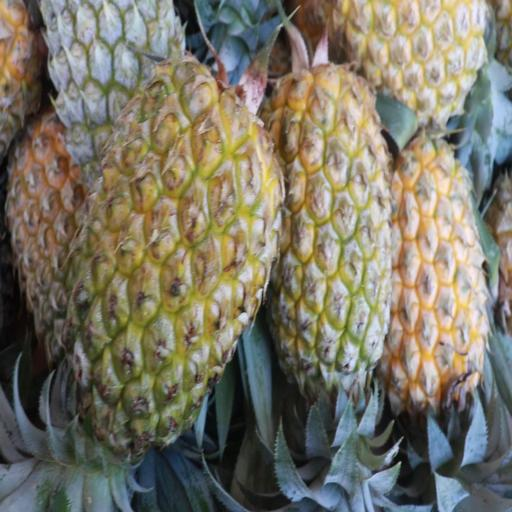Pineapple - v8 v1: (71, 76, 278, 437), (266, 79, 390, 391), (385, 132, 492, 402), (325, 0, 490, 124)
